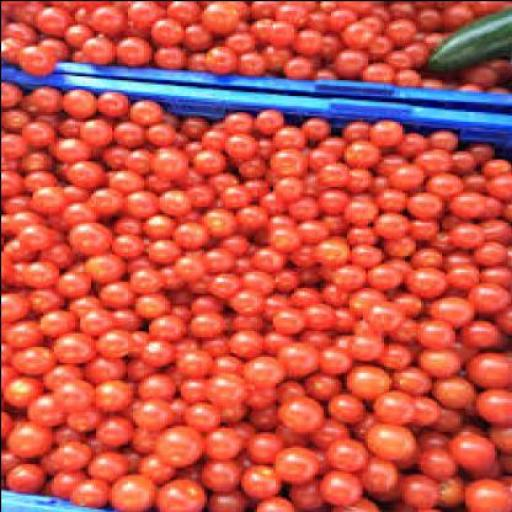biodegradable: (421, 2, 509, 72), (147, 475, 209, 510), (98, 473, 156, 508), (340, 364, 396, 399), (58, 219, 113, 254), (2, 417, 50, 457), (158, 425, 198, 469), (126, 2, 172, 40), (1, 458, 58, 488), (310, 468, 358, 503), (462, 475, 509, 510), (356, 450, 391, 496), (393, 470, 435, 508), (264, 148, 317, 178), (428, 375, 480, 405), (425, 292, 472, 324), (414, 444, 456, 479), (48, 377, 90, 412), (129, 403, 177, 433), (79, 184, 127, 214), (37, 468, 92, 494), (1, 372, 43, 406), (191, 455, 240, 484), (465, 350, 509, 382), (249, 16, 293, 48), (277, 440, 316, 476), (279, 396, 314, 435), (417, 342, 462, 372), (92, 328, 134, 360), (192, 241, 234, 273), (388, 360, 424, 397), (472, 390, 510, 425), (274, 230, 312, 265), (61, 472, 100, 506), (264, 326, 303, 360), (319, 396, 364, 425), (1, 316, 43, 347), (282, 479, 330, 506), (448, 257, 486, 291), (72, 6, 121, 32), (366, 425, 408, 455), (404, 187, 440, 222), (325, 433, 362, 467), (280, 342, 317, 376), (370, 392, 409, 424), (68, 36, 116, 62), (87, 447, 130, 476), (26, 390, 61, 425), (212, 183, 261, 208), (404, 391, 440, 425), (88, 380, 130, 409), (50, 134, 88, 166), (10, 348, 53, 376), (246, 461, 278, 498), (37, 302, 74, 334), (206, 486, 253, 511), (457, 324, 501, 350), (465, 284, 509, 310), (452, 431, 491, 460), (55, 178, 98, 204), (76, 116, 114, 145), (404, 270, 446, 296), (58, 87, 92, 119), (369, 302, 406, 331), (50, 202, 98, 224), (135, 374, 174, 401), (143, 40, 182, 67), (145, 146, 180, 176), (246, 431, 278, 463), (127, 265, 161, 295), (433, 470, 462, 505), (346, 238, 385, 264), (48, 330, 84, 358), (420, 170, 462, 194), (92, 278, 132, 303), (448, 219, 486, 245), (111, 34, 145, 63), (24, 288, 63, 313), (32, 184, 68, 211), (309, 236, 346, 262), (16, 259, 53, 285), (174, 350, 214, 374), (232, 326, 262, 358), (76, 306, 108, 336), (211, 231, 251, 255), (82, 253, 116, 281), (137, 208, 172, 235), (61, 405, 100, 429), (301, 371, 338, 396), (230, 206, 272, 228), (21, 123, 55, 150), (324, 48, 359, 74), (23, 83, 53, 113), (480, 152, 510, 182), (274, 174, 304, 204), (311, 156, 341, 186), (409, 249, 446, 273), (209, 372, 243, 398), (148, 14, 182, 40), (100, 226, 140, 248), (132, 290, 161, 320), (266, 378, 298, 405), (174, 216, 206, 243), (280, 48, 312, 75), (111, 118, 140, 147), (430, 405, 465, 429), (332, 263, 367, 287), (380, 20, 418, 42), (203, 430, 235, 456), (348, 336, 380, 362), (470, 237, 502, 263), (50, 114, 82, 140), (182, 178, 214, 204), (18, 44, 50, 70), (0, 20, 32, 46), (53, 0, 122, 12), (390, 1, 433, 20), (238, 265, 272, 289), (457, 57, 491, 81), (264, 423, 301, 445), (145, 312, 182, 334), (340, 190, 368, 219), (372, 180, 401, 208), (451, 194, 481, 221), (248, 355, 280, 380), (227, 308, 267, 328), (230, 51, 262, 76), (403, 32, 428, 64), (288, 211, 324, 233), (336, 20, 372, 42), (179, 372, 206, 401), (351, 287, 380, 314), (111, 309, 140, 336), (37, 6, 66, 33), (54, 440, 84, 466), (66, 158, 105, 178), (203, 46, 233, 72), (287, 30, 322, 52), (478, 263, 510, 287), (416, 318, 448, 342), (1, 127, 25, 159), (21, 223, 53, 247), (459, 140, 491, 164), (200, 1, 232, 25), (322, 346, 349, 374), (95, 91, 124, 117), (169, 251, 198, 277), (156, 188, 185, 214), (134, 452, 164, 477), (271, 302, 301, 327), (271, 124, 301, 149), (142, 235, 172, 260), (404, 216, 438, 238), (1, 155, 21, 192), (301, 265, 338, 285), (309, 418, 337, 444), (340, 118, 368, 144), (372, 120, 398, 148), (377, 207, 402, 236), (2, 1, 40, 20), (162, 1, 200, 20), (124, 148, 148, 178), (478, 216, 510, 238), (383, 235, 415, 257), (203, 269, 235, 291), (320, 214, 352, 236), (222, 132, 254, 154), (239, 2, 283, 18), (362, 32, 388, 59), (63, 292, 98, 312), (258, 43, 286, 68), (190, 148, 219, 172), (140, 342, 171, 364), (247, 374, 272, 401), (185, 311, 224, 328), (0, 104, 30, 126), (182, 23, 208, 48), (382, 338, 409, 362), (491, 421, 510, 455), (425, 226, 454, 248), (21, 166, 50, 188), (198, 168, 233, 186), (306, 300, 330, 326), (2, 250, 18, 289), (56, 265, 82, 289), (401, 130, 425, 156), (98, 146, 124, 170), (216, 348, 238, 376), (218, 111, 246, 133), (303, 112, 322, 144), (211, 399, 241, 419), (0, 239, 30, 259), (1, 286, 21, 316), (224, 29, 249, 53), (248, 494, 285, 510), (439, 1, 463, 25), (314, 184, 336, 210), (427, 131, 457, 150), (124, 188, 153, 207), (256, 184, 277, 210), (265, 2, 299, 18), (184, 47, 206, 71), (364, 59, 388, 81), (370, 265, 396, 285), (198, 207, 224, 227), (187, 292, 219, 308), (443, 245, 468, 265), (247, 245, 272, 265), (343, 498, 383, 510), (303, 64, 333, 80), (230, 154, 264, 168), (316, 135, 341, 154), (304, 12, 330, 30), (288, 196, 309, 218), (385, 46, 406, 68), (161, 297, 185, 316), (230, 291, 256, 308), (488, 308, 510, 327), (2, 78, 18, 104), (256, 212, 282, 228), (269, 267, 293, 284), (330, 304, 346, 329), (206, 120, 222, 145), (132, 100, 150, 122), (486, 51, 504, 73), (2, 207, 32, 220), (1, 191, 25, 207), (2, 34, 18, 58), (351, 0, 383, 12), (176, 119, 198, 136), (0, 212, 14, 238), (258, 113, 277, 132), (301, 277, 319, 297), (417, 71, 438, 87), (266, 287, 290, 300), (289, 0, 314, 12), (338, 168, 359, 182), (448, 77, 476, 87), (393, 70, 412, 83), (425, 23, 443, 36), (1, 410, 9, 438), (158, 111, 172, 127), (319, 1, 343, 10), (106, 216, 132, 222), (486, 85, 499, 87)
